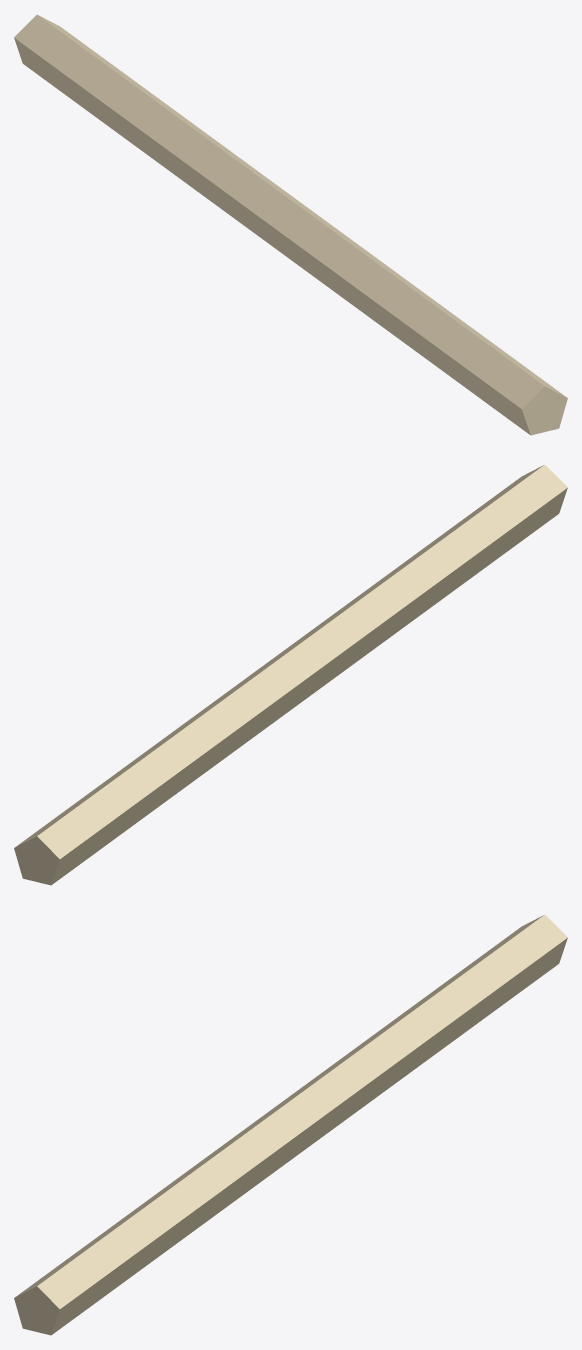
Rendered from ponte_corda.fbx.
The picture shows the model from 3 angles, top to bottom: view 1: azimuth 30°, elevation 25°; view 2: azimuth 150°, elevation 25°; view 3: azimuth 330°, elevation 25°; orthographic projection.
Visible parts, largest first — view 1: ponte_corda~Corda@rope; view 2: ponte_corda~Corda@rope; view 3: ponte_corda~Corda@rope.
Part boxes in pixels (box(x1,y1,x2,y2)): ponte_corda~Corda@rope: box(14, 14, 567, 435); ponte_corda~Corda@rope: box(14, 464, 567, 885); ponte_corda~Corda@rope: box(14, 914, 567, 1335).
Size of the model in its own units: 0.0523 by 0.0497 by 1.
